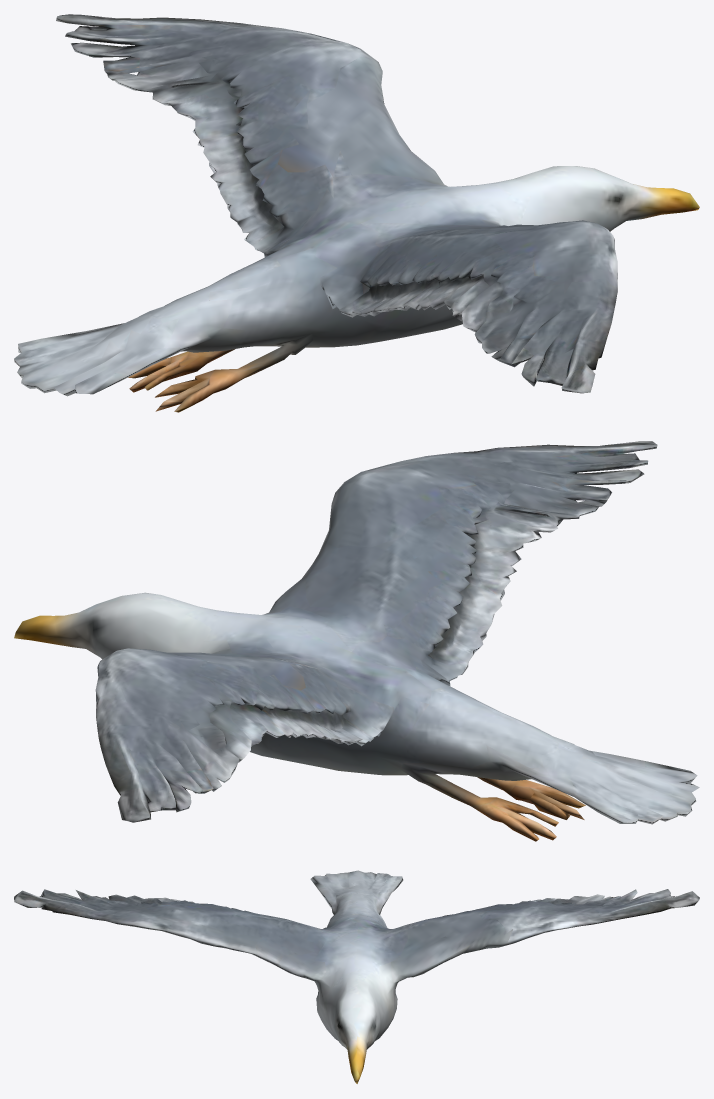
The model's file is seagull_3d.glb.
3 renders of one model, top to bottom at view 1: azimuth 30°, elevation 25°; view 2: azimuth 150°, elevation 25°; view 3: azimuth 270°, elevation 25°, orthographic. The views are drawn at different scales.
Parts seen in each view (by area): view 1: tripo_node_a1322acb-d1fc-45b8-9801-e354bcea1d78; view 2: tripo_node_a1322acb-d1fc-45b8-9801-e354bcea1d78; view 3: tripo_node_a1322acb-d1fc-45b8-9801-e354bcea1d78.
Part boxes in pixels (x1=…): tripo_node_a1322acb-d1fc-45b8-9801-e354bcea1d78: x1=14, y1=14, x2=699, y2=412; tripo_node_a1322acb-d1fc-45b8-9801-e354bcea1d78: x1=14, y1=441, x2=699, y2=841; tripo_node_a1322acb-d1fc-45b8-9801-e354bcea1d78: x1=14, y1=870, x2=699, y2=1083.
Size of the model in its own units: 0.7536 by 0.2016 by 1.
Materials: 1 (1 with a texture image).
